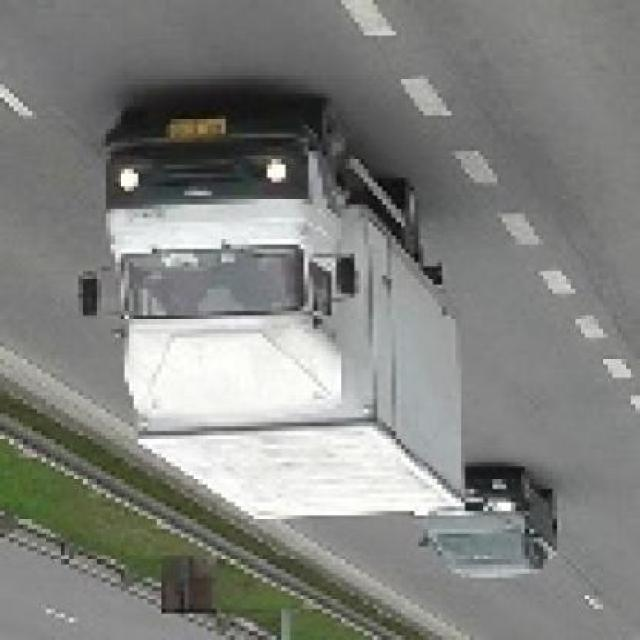truck: (79, 103, 462, 530)
